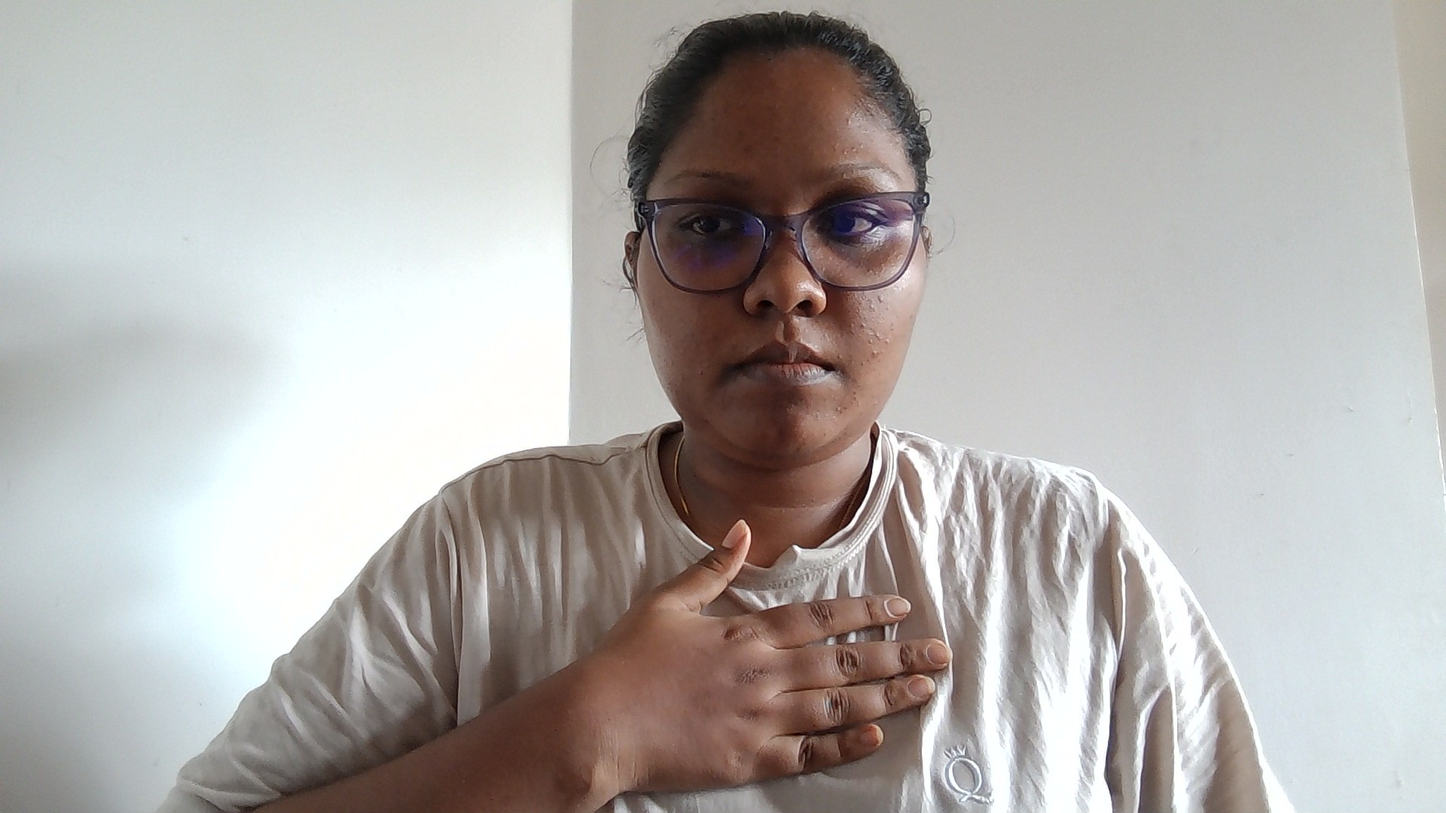Please: (559, 477, 1047, 813)
